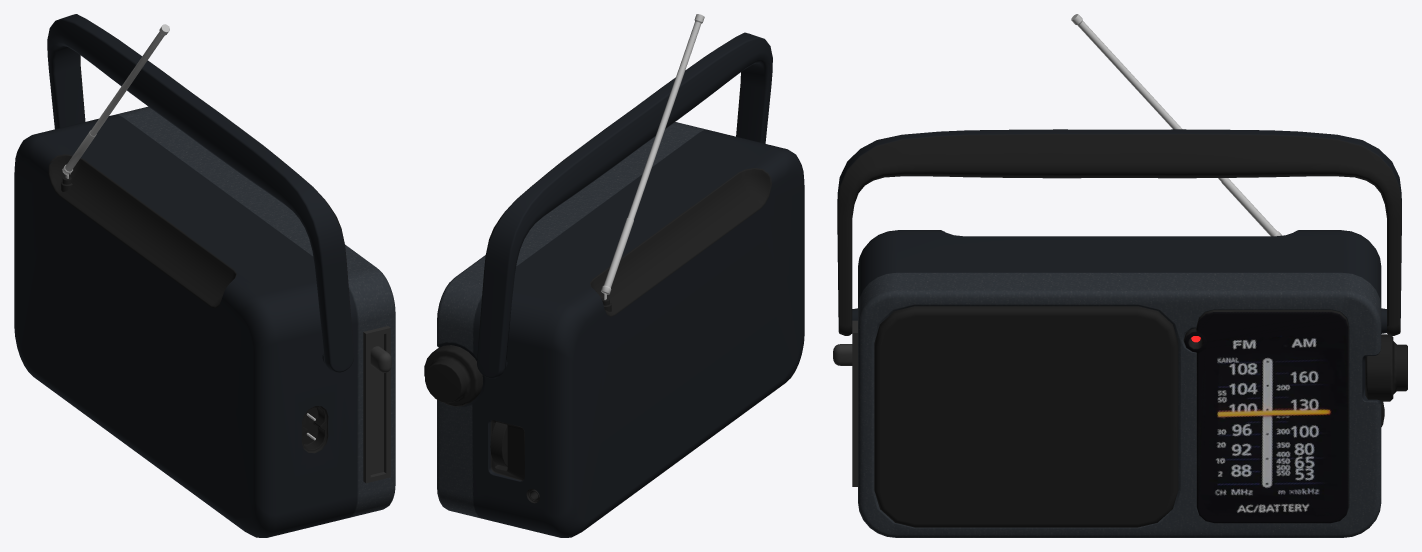
File: RADIO.fbx
3 renders of one model, left to right at view 1: azimuth 30°, elevation 25°; view 2: azimuth 150°, elevation 25°; view 3: azimuth 270°, elevation 25°, orthographic. The views are drawn at different scales.
Visible parts, largest first — view 1: Speaker_low, volume adjuster; view 2: Speaker_low; view 3: Speaker_low.
Part boxes in pixels (<box>): Speaker_low: <box>14,14,395,537</box>; volume adjuster: <box>370,346,391,372</box>; Speaker_low: <box>424,14,804,537</box>; Speaker_low: <box>837,14,1407,537</box>.
Bounding box in the file's own units: 43.56 × 131 × 148.
Materials: 3 (1 with a texture image).
